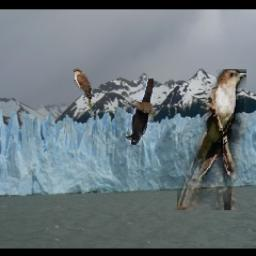Crow: (126, 78, 154, 145)
Cuckoo: (178, 70, 247, 211), (73, 69, 92, 113)
